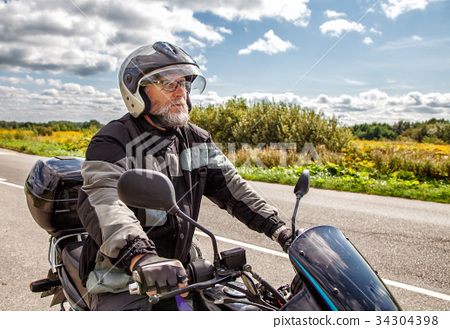helmet: (116, 44, 205, 105)
